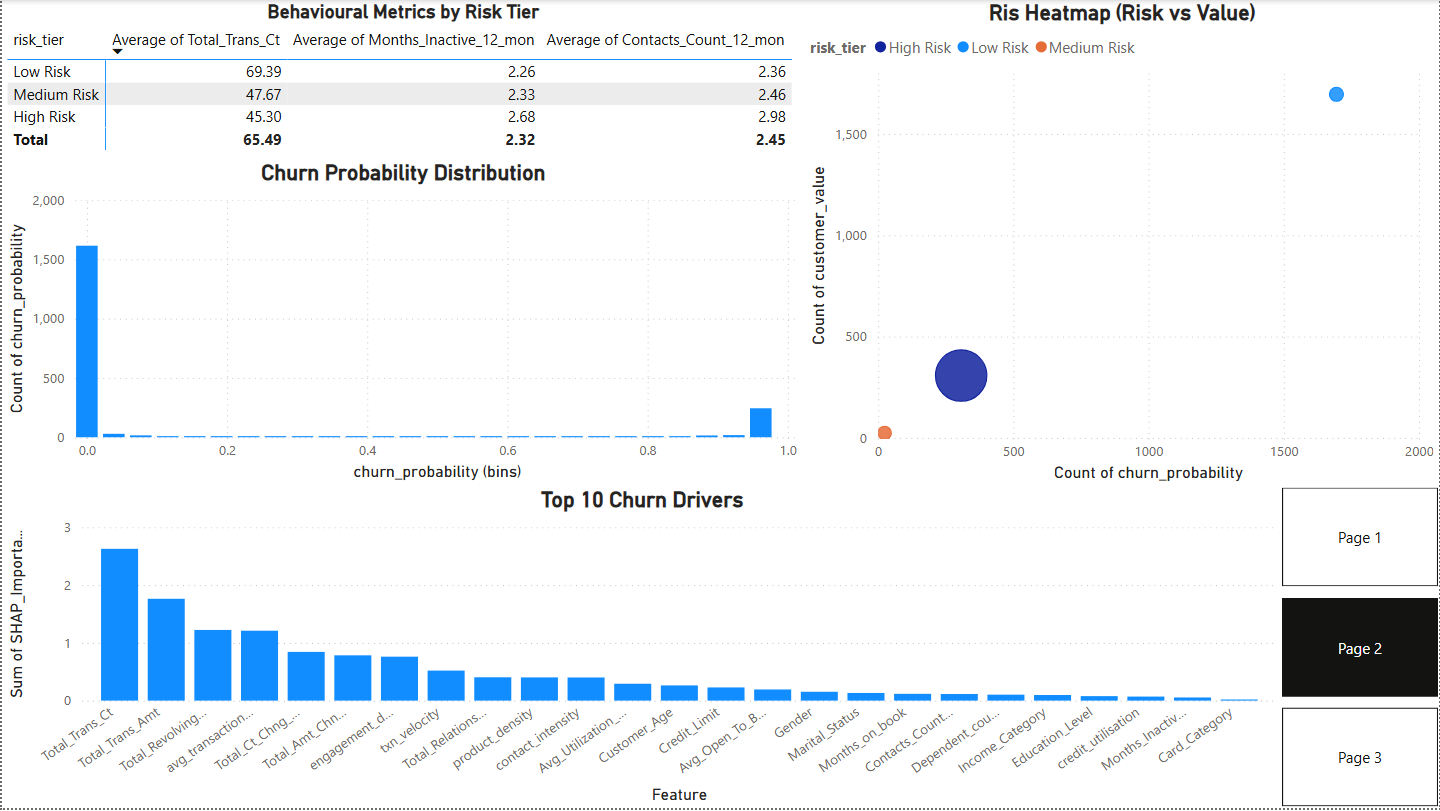

The page's visual inventory and layout, read from the dashboard file:
{"tool":"powerbi","page":{"name":"Page 2","canvas":[1280,720],"ordinal":1},"visuals":[{"type":"columnChart","title":"Churn Probability Distribution","fields":{"Category":["prioritized_customers.churn_probability (bins)"],"Y":["CountNonNull(prioritized_customers.churn_probability)"]},"box":[0,142.7,714.9,290.9],"z":0},{"type":"clusteredColumnChart","title":"Top 10 Churn Drivers","fields":{"Category":["feature_importance_shap.Feature"],"Y":["Sum(feature_importance_shap.SHAP_Importance)"]},"box":[0,433.6,1140.3,286.8],"z":1000},{"type":"pivotTable","title":"Behavioural Metrics by Risk Tier","fields":{"Rows":["prioritized_customers.risk_tier"],"Values":["Avg(prioritized_customers.Total_Trans_Ct)","Avg(prioritized_customers.Months_Inactive_12_mon)","Avg(prioritized_customers.Contacts_Count_12_mon)"]},"box":[0,0,714.9,142.7],"z":2000},{"type":"scatterChart","title":"Ris Heatmap (Risk vs Value)","fields":{"X":["CountNonNull(prioritized_customers.churn_probability)"],"Y":["CountNonNull(prioritized_customers.customer_value)"],"Series":["prioritized_customers.risk_tier"],"Size":["Sum(prioritized_customers.priority_score)"]},"box":[714.9,0,565.4,433.6],"z":3000},{"type":"pageNavigator","box":[1140.3,433.6,140,286.8],"z":4000}]}

Visuals, with their boxes in screenshot pixels (x1, y1, x2, y2), scaled from the page's 1280x720 canvas onto the 1440x811 screenshot:
"Churn Probability Distribution" columnChart: detection(0, 161, 804, 488)
"Top 10 Churn Drivers" clusteredColumnChart: detection(0, 488, 1283, 810)
"Behavioural Metrics by Risk Tier" pivotTable: detection(0, 0, 804, 161)
"Ris Heatmap (Risk vs Value)" scatterChart: detection(804, 0, 1439, 488)
pageNavigator: detection(1283, 488, 1439, 810)
